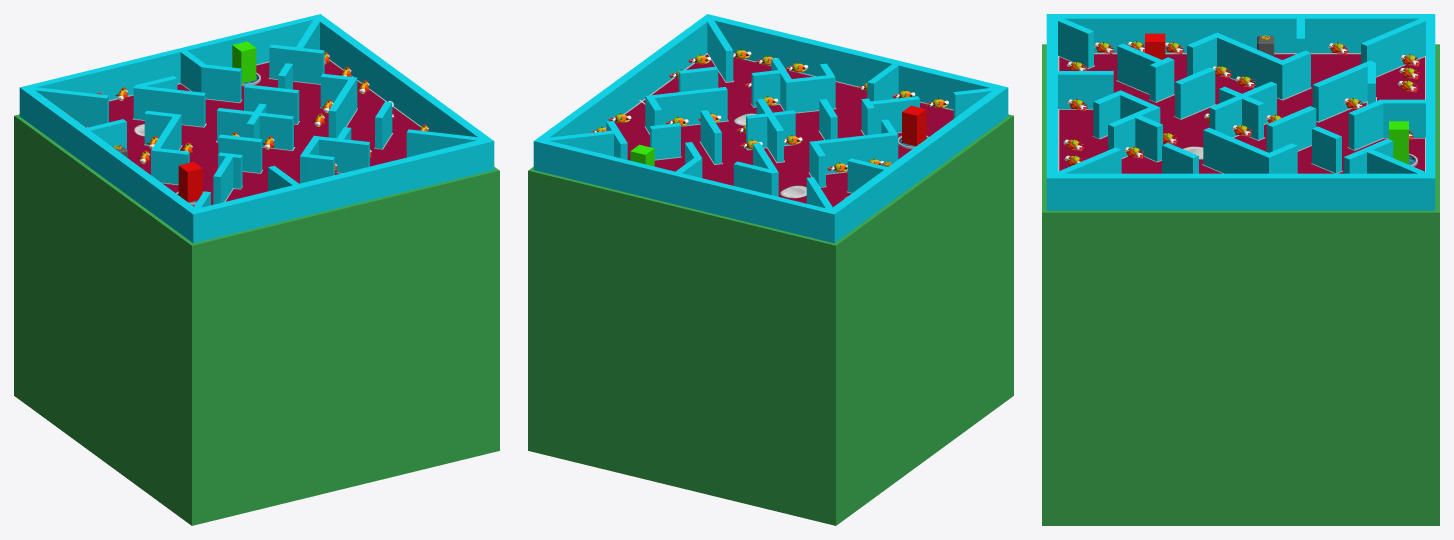
Rendered from Level_30.fbx.
The picture shows the model from 3 angles, left to right: view 1: azimuth 30°, elevation 25°; view 2: azimuth 150°, elevation 25°; view 3: azimuth 270°, elevation 25°; orthographic projection. The views are drawn at different scales.
Parts seen in each view (by area): view 1: BaseAndCompound, Base, Walls__17_, Walls__2_, Walls, Walls__6_, Walls__14_, Walls__20_, Walls__10_, Walls__24_, Walls__1_, Walls__8_ (+11 smaller); view 2: BaseAndCompound, Base, Walls__7_, Walls__8_, Walls__13_, Walls__1_, Walls__3_, Walls__15_, Walls__26_, Walls__5_, Walls__9_, Walls__27_ (+10 smaller); view 3: BaseAndCompound, Base, Walls, Walls__8_, Walls__17_, Walls__7_, Walls__19_, Walls__2_, Walls__14_, Walls__24_, Walls__20_, Walls__4_ (+18 smaller).
Boxes of the visible parts, x1=… form: BaseAndCompound: x1=14, y1=14, x2=499, y2=525; Base: x1=109, y1=61, x2=420, y2=206; Walls__17_: x1=132, y1=85, x2=206, y2=127; Walls__2_: x1=215, y1=108, x2=295, y2=151; Walls: x1=33, y1=87, x2=108, y2=127; Walls__6_: x1=268, y1=44, x2=324, y2=84; Walls__14_: x1=244, y1=84, x2=299, y2=124; Walls__20_: x1=201, y1=64, x2=242, y2=103; Walls__10_: x1=319, y1=136, x2=369, y2=173; Walls__24_: x1=217, y1=134, x2=263, y2=173; Walls__1_: x1=406, y1=129, x2=480, y2=157; Walls__8_: x1=328, y1=78, x2=357, y2=138; BaseAndCompound: x1=528, y1=14, x2=1013, y2=525; Base: x1=614, y1=54, x2=953, y2=206; Walls__7_: x1=809, y1=132, x2=898, y2=175; Walls__8_: x1=651, y1=87, x2=728, y2=126; Walls__13_: x1=784, y1=74, x2=836, y2=113; Walls__1_: x1=707, y1=19, x2=734, y2=82; Walls__3_: x1=746, y1=110, x2=796, y2=150; Walls__15_: x1=650, y1=123, x2=681, y2=160; Walls__26_: x1=867, y1=96, x2=919, y2=134; Walls__5_: x1=543, y1=130, x2=616, y2=156; Walls__9_: x1=733, y1=161, x2=774, y2=194; Walls__27_: x1=751, y1=69, x2=784, y2=107; BaseAndCompound: x1=1042, y1=14, x2=1439, y2=525; Base: x1=1059, y1=54, x2=1424, y2=173; Walls: x1=1361, y1=18, x2=1425, y2=77; Walls__8_: x1=1202, y1=127, x2=1270, y2=173; Walls__17_: x1=1312, y1=60, x2=1377, y2=122; Walls__7_: x1=1211, y1=32, x2=1285, y2=100; Walls__19_: x1=1058, y1=71, x2=1113, y2=109; Walls__2_: x1=1209, y1=81, x2=1276, y2=137; Walls__14_: x1=1266, y1=106, x2=1316, y2=152; Walls__24_: x1=1174, y1=67, x2=1215, y2=119; Walls__20_: x1=1347, y1=100, x2=1383, y2=150; Walls__4_: x1=1058, y1=18, x2=1094, y2=69.
Size of the model in its own units: 138 by 133 by 138.
